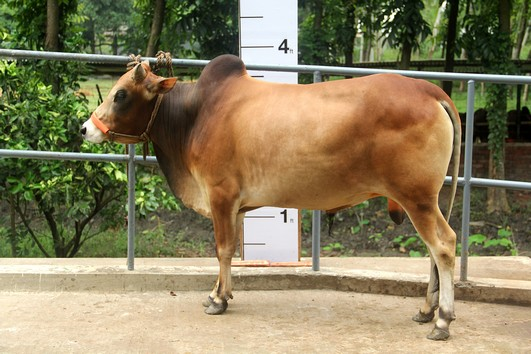cow: (73, 41, 468, 340)
